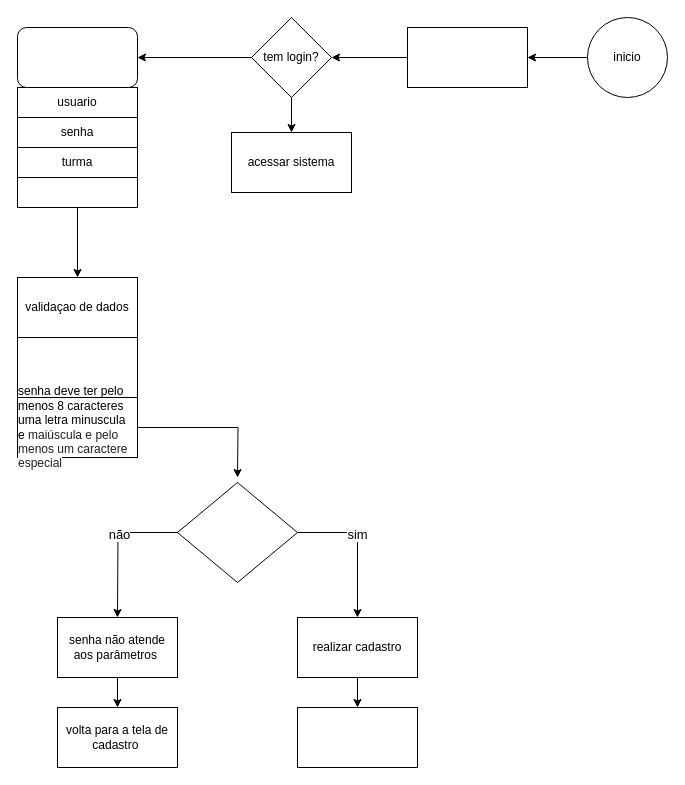
Image size: 685x785. Some labels were removed from this diagram. The centre of each missing label's shape, as x and y in pixels:
"cadastro" belongs at pixel 77 57.
"informar o usuário que o cadastro foi realizado e volta para tela de login" belongs at pixel 357 737.
"nome completo" belongs at pixel 77 192.
"tela de login" belongs at pixel 467 57.
"tomada de decisão validação" belongs at pixel 237 532.
"verificar se o usuário já existe" belongs at pixel 77 367.
